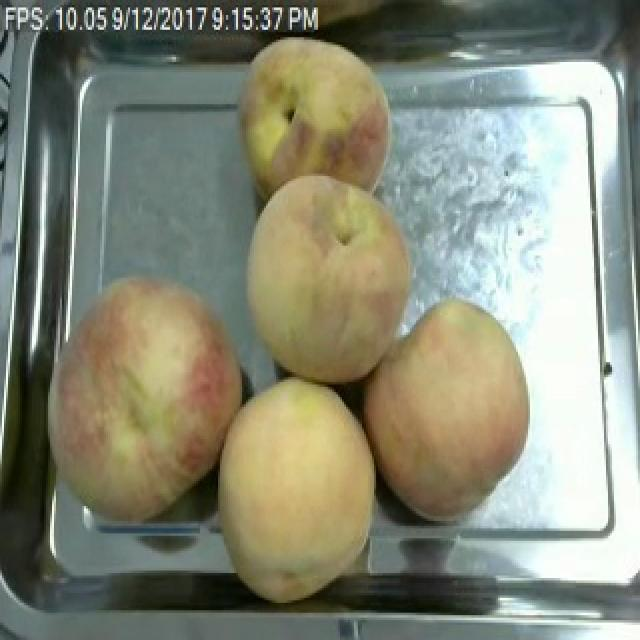Fruit: (28, 263, 258, 533), (198, 367, 392, 610), (358, 296, 540, 528), (238, 166, 422, 392), (226, 25, 406, 206)
